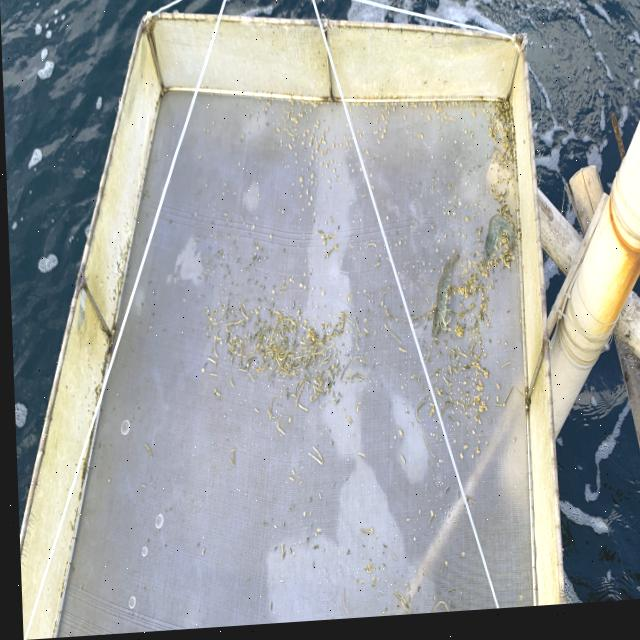Shrimp feeds: (475, 408, 485, 420), (415, 138, 423, 144), (475, 386, 480, 393), (493, 389, 497, 397), (380, 119, 384, 127), (366, 247, 372, 252), (447, 122, 452, 128), (464, 222, 468, 229), (426, 121, 430, 127), (380, 138, 384, 144), (315, 123, 319, 129), (222, 215, 226, 220), (382, 133, 386, 138), (309, 139, 313, 144), (308, 145, 312, 150), (454, 427, 457, 432), (402, 121, 405, 126), (489, 285, 491, 291), (487, 292, 489, 298), (420, 117, 422, 121)
